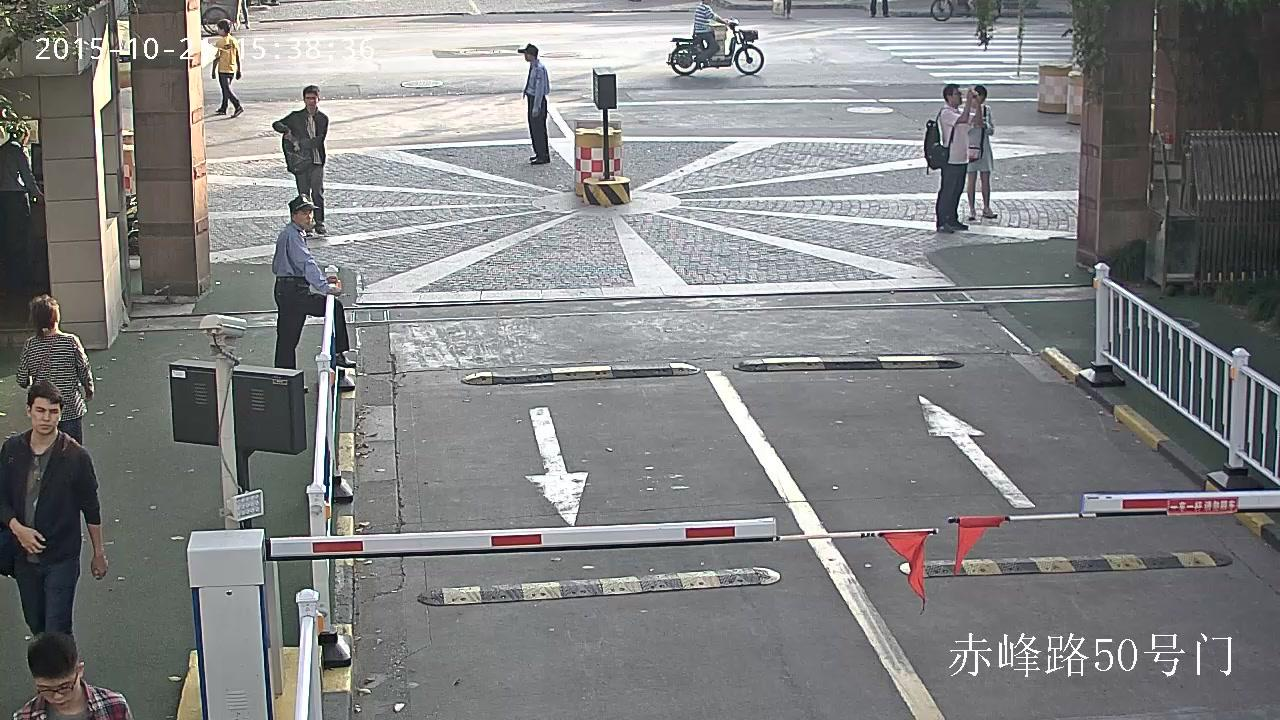person: (0, 380, 106, 634), (272, 193, 356, 393), (16, 294, 94, 445), (11, 630, 133, 720), (924, 84, 984, 234), (272, 85, 328, 233), (666, 0, 763, 75), (0, 127, 43, 287), (966, 85, 997, 220), (517, 43, 549, 164), (212, 20, 243, 118), (692, 0, 729, 67)
